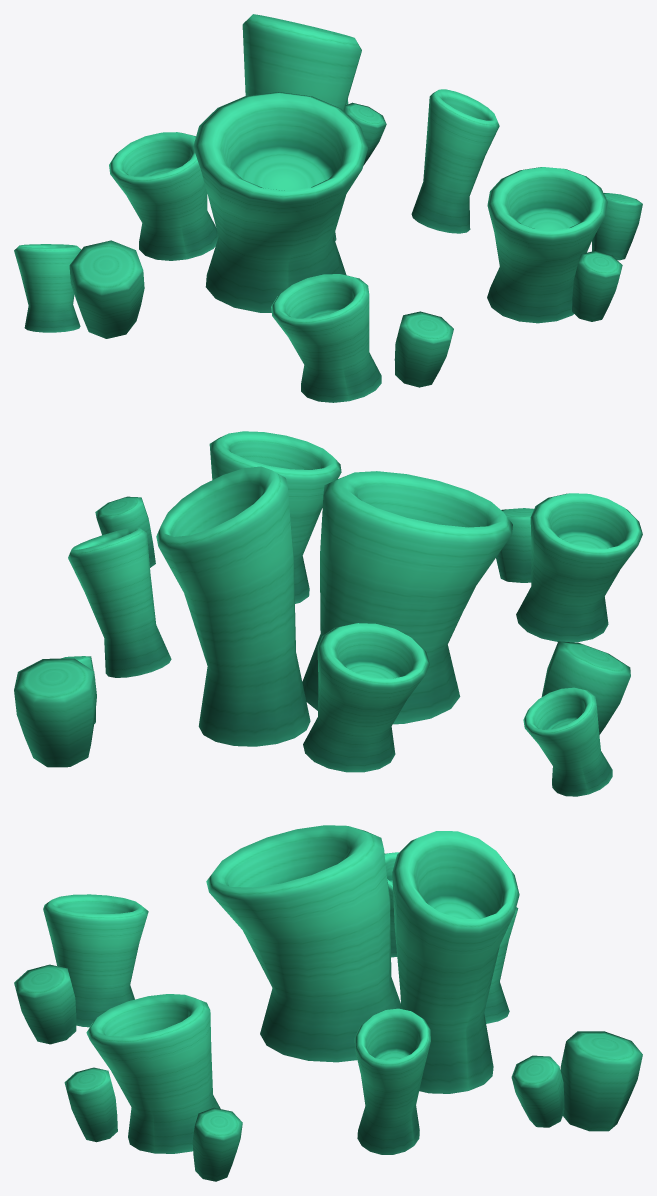
File: GreenCluster1.fbx
The picture shows the model from 3 angles, top to bottom: view 1: azimuth 30°, elevation 25°; view 2: azimuth 150°, elevation 25°; view 3: azimuth 270°, elevation 25°; orthographic projection. The views are drawn at different scales.
Visible parts, largest first — view 1: GreenCluster1; view 2: GreenCluster1; view 3: GreenCluster1.
Boxes of the visible parts, <box> form: GreenCluster1: <box>14,14,642,402</box>; GreenCluster1: <box>14,431,642,796</box>; GreenCluster1: <box>14,825,642,1181</box>.
Bounding box in the file's own units: 85.49 × 35.65 × 83.17.
Materials: 1 (1 with a texture image).
